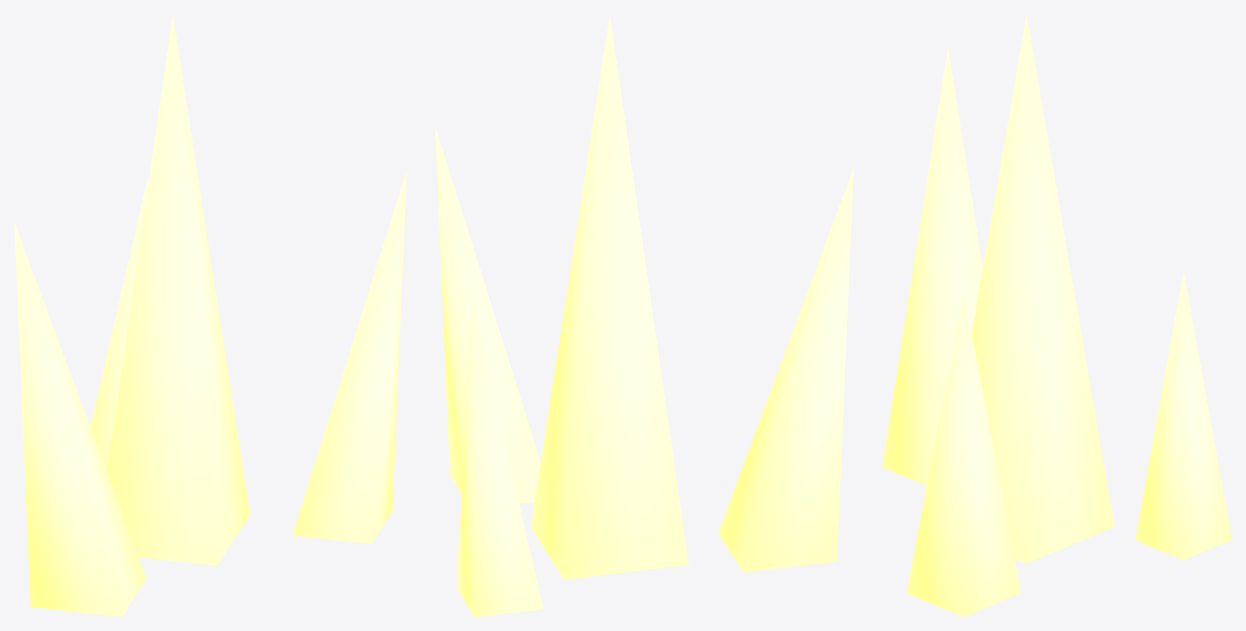
The model's file is SM_cv_crystal_gold.glb.
3 views of the same model, side by side, from view 1: azimuth 30°, elevation 25°; view 2: azimuth 150°, elevation 25°; view 3: azimuth 270°, elevation 25° (orthographic). The views are drawn at different scales.
Parts seen in each view (by area): view 1: SM_cv_crystal_gold; view 2: SM_cv_crystal_gold; view 3: SM_cv_crystal_gold.
Part boxes in pixels (bbox=[...]): SM_cv_crystal_gold: bbox=[14, 14, 406, 616]; SM_cv_crystal_gold: bbox=[435, 14, 853, 616]; SM_cv_crystal_gold: bbox=[882, 14, 1231, 616].
Size of the model in its own units: 1.45 by 1.8 by 1.11.
